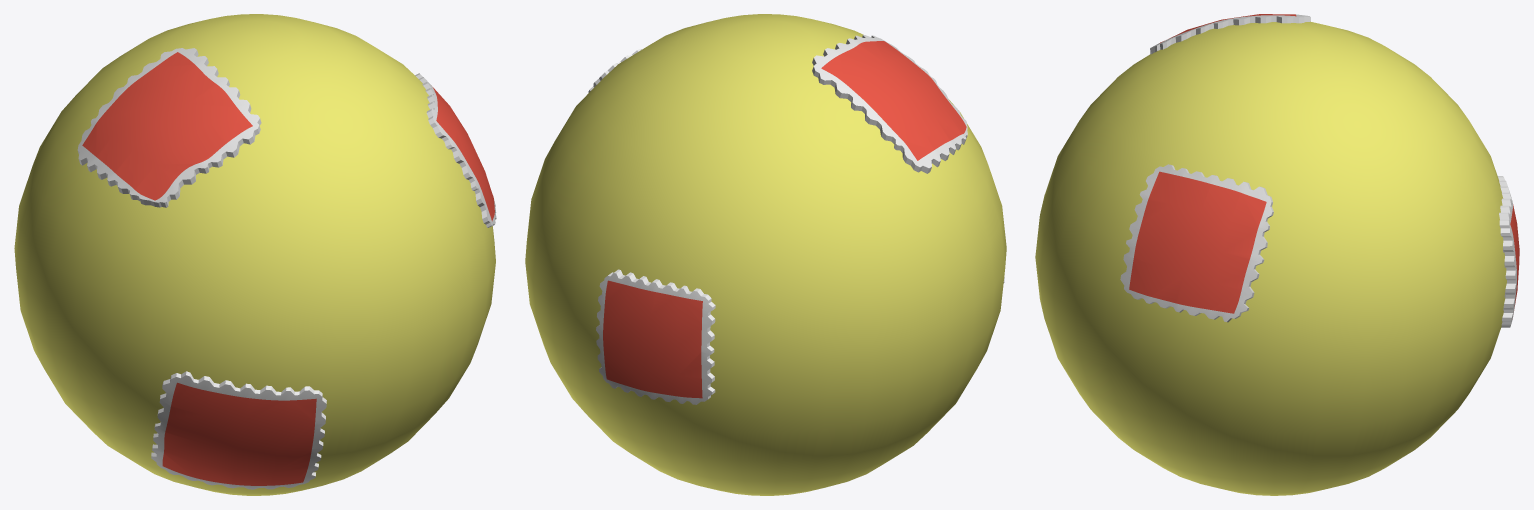
The model's file is sphere_four_stamp.fbx.
3 renders of one model, left to right at view 1: azimuth 30°, elevation 25°; view 2: azimuth 150°, elevation 25°; view 3: azimuth 270°, elevation 25°, orthographic.
Visible parts, largest first — view 1: Sphere, Cube.003, Cube.002, Cube.001; view 2: Sphere, Cube, Cube.003; view 3: Sphere, Cube.001, Cube, Cube.003.
Part boxes in pixels (x1=…): Sphere: x1=14, y1=14, x2=495, y2=495; Cube.003: x1=77, y1=48, x2=261, y2=207; Cube.002: x1=151, y1=371, x2=326, y2=489; Cube.001: x1=415, y1=73, x2=496, y2=227; Sphere: x1=525, y1=14, x2=1006, y2=495; Cube: x1=596, y1=269, x2=715, y2=404; Cube.003: x1=812, y1=35, x2=967, y2=173; Sphere: x1=1035, y1=21, x2=1506, y2=495; Cube.001: x1=1120, y1=164, x2=1273, y2=322; Cube: x1=1497, y1=176, x2=1519, y2=327; Cube.003: x1=1150, y1=14, x2=1310, y2=54.
Size of the model in its own units: 100 by 100 by 101.
